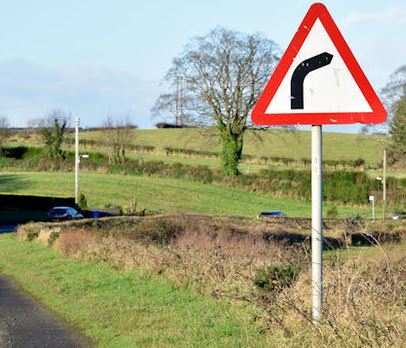Bend_to_right: (248, 2, 389, 129)
